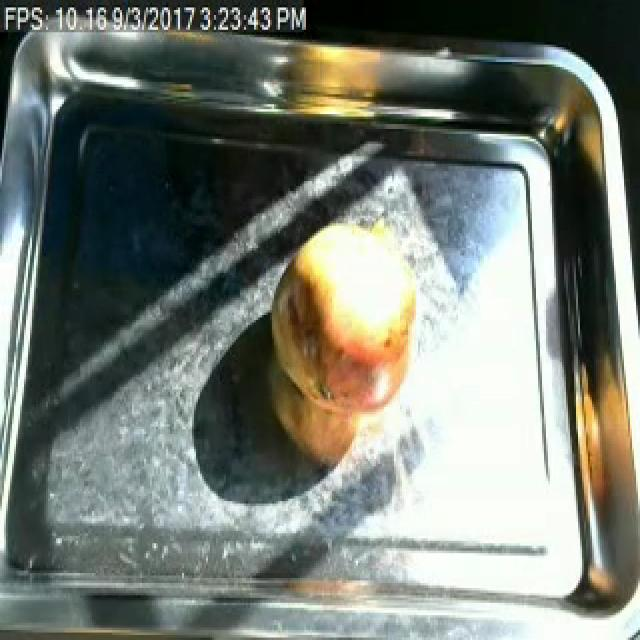fruit: (260, 206, 434, 436)
